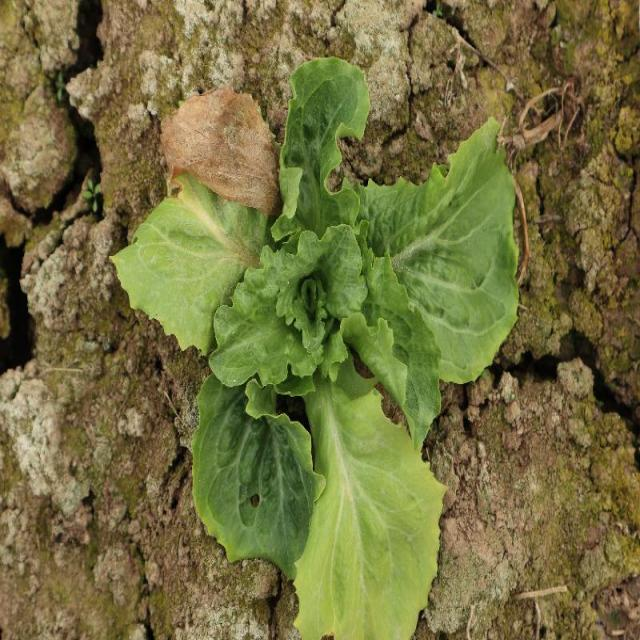crop: (106, 59, 520, 640)
